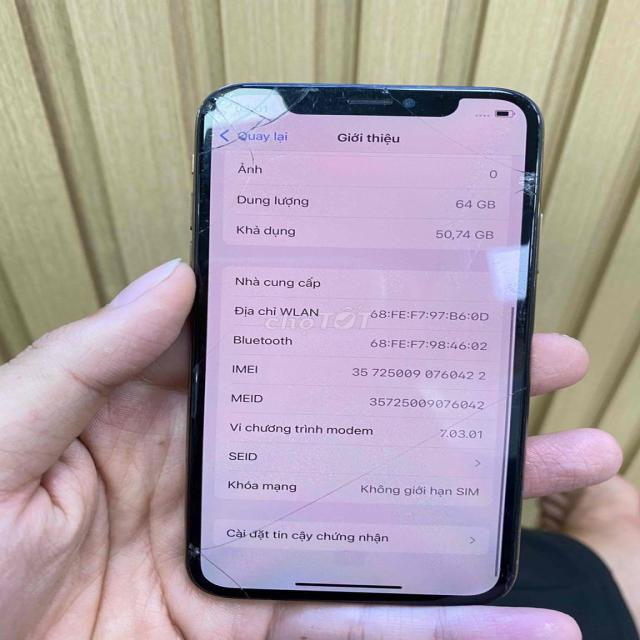gen_x_xs: (177, 68, 553, 610)
